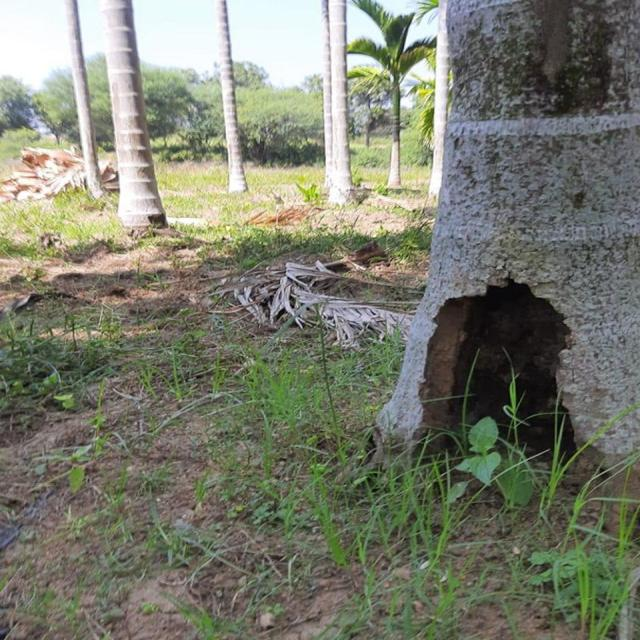Stem_Cracking: (182, 149, 624, 501)
